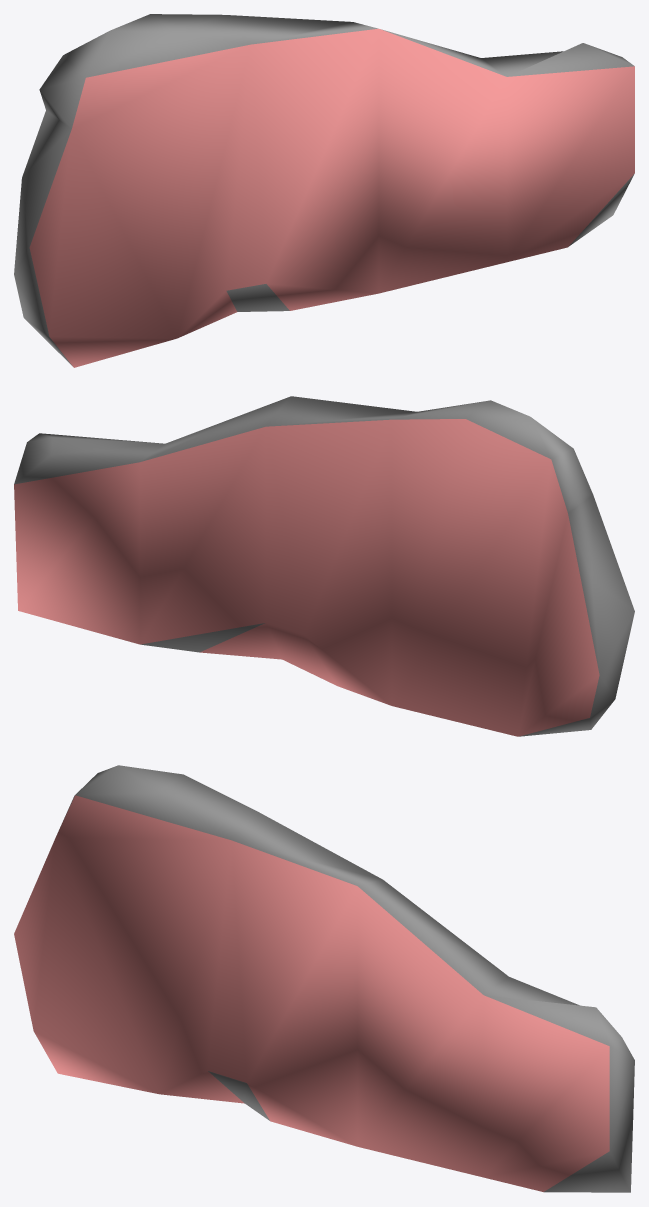
The model's file is skruins_wall02.gltf.
3 views of the same model, one above another, from view 1: azimuth 30°, elevation 25°; view 2: azimuth 150°, elevation 25°; view 3: azimuth 330°, elevation 25° (orthographic).
Parts seen in each view (by area): view 1: skruins_wall02; view 2: skruins_wall02; view 3: skruins_wall02.
Part boxes in pixels (x1,y1,x2,y2): skruins_wall02: (14, 14, 634, 367); skruins_wall02: (14, 396, 634, 736); skruins_wall02: (14, 765, 634, 1192).
Bounding box in the file's own units: 1.72 × 0.8558 × 0.1265.
